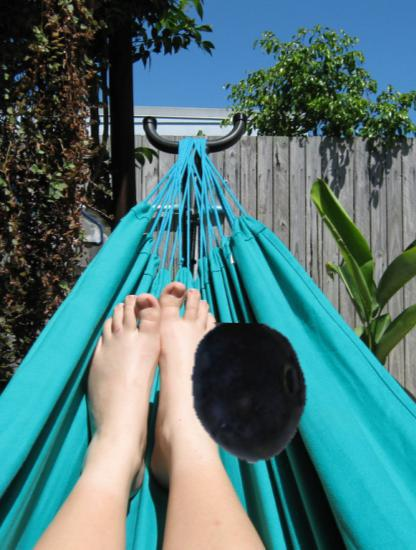Blueberry: (179, 323, 320, 464)
